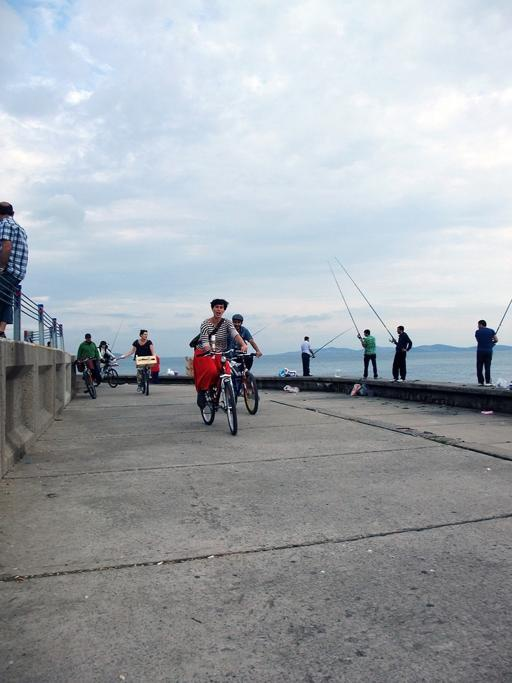non-vehicle: (200, 347, 246, 440), (219, 351, 259, 416), (74, 355, 99, 400), (90, 356, 121, 389), (134, 362, 161, 396)
